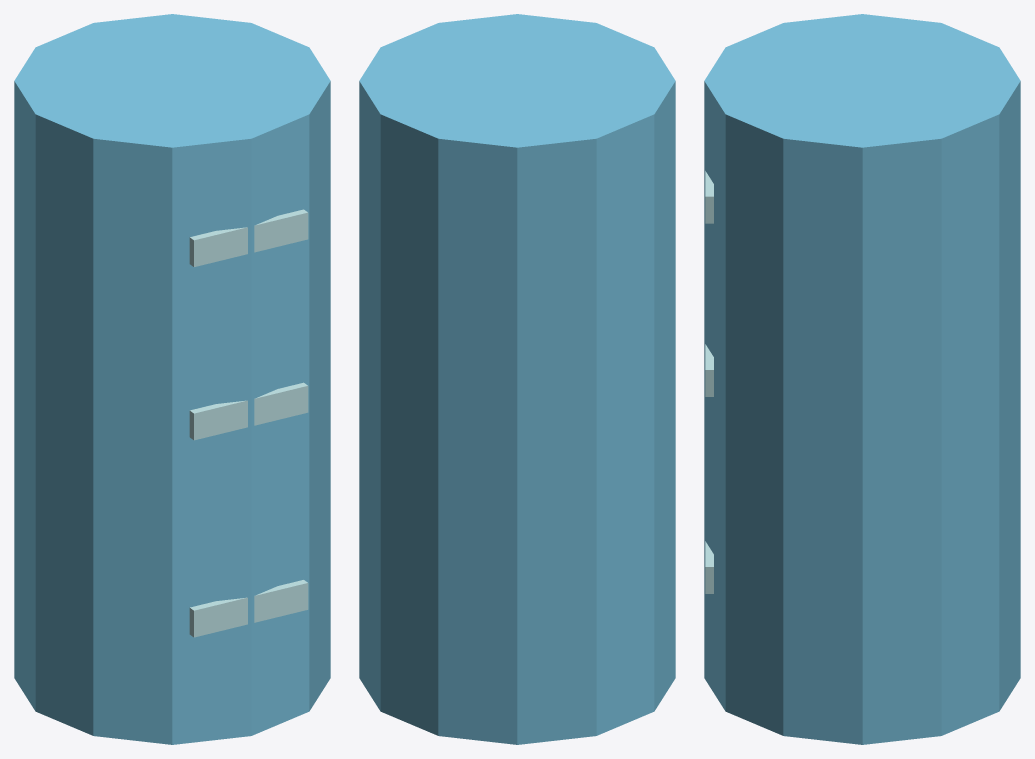
The model's file is tubo_agua.glb.
3 renders of one model, left to right at view 1: azimuth 30°, elevation 25°; view 2: azimuth 150°, elevation 25°; view 3: azimuth 270°, elevation 25°, orthographic.
Visible parts, largest first — view 1: tubo_agua; view 2: tubo_agua; view 3: tubo_agua.
Boxes of the visible parts, <box> form: tubo_agua: <box>14,14,330,744</box>; tubo_agua: <box>359,14,675,744</box>; tubo_agua: <box>704,14,1020,744</box>.
Bounding box in the file's own units: 0.48 × 1 × 0.48.
